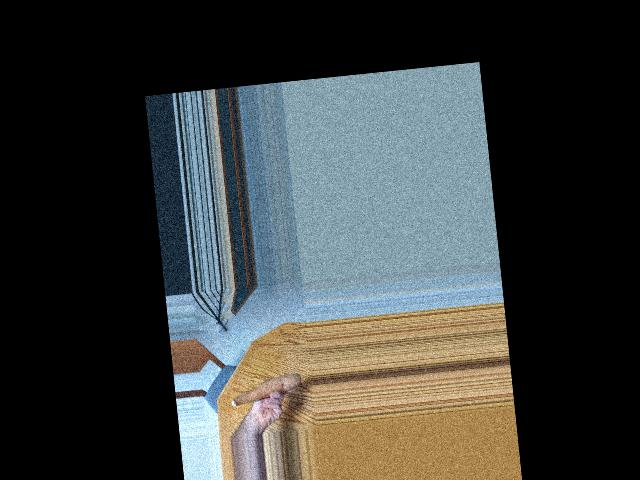sweet_potato: (228, 370, 302, 410)
